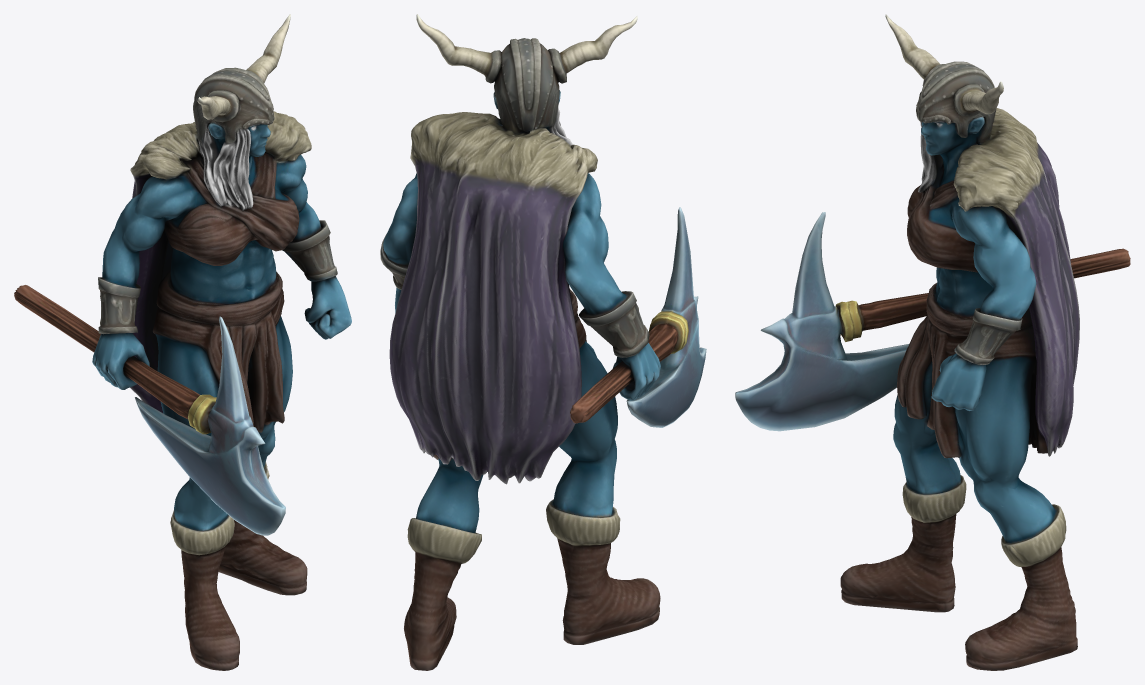
Rendered from MZ4250 - Frost Giant (Female).glb.
The picture shows the model from 3 angles, left to right: view 1: azimuth 30°, elevation 25°; view 2: azimuth 150°, elevation 25°; view 3: azimuth 270°, elevation 25°; orthographic projection. The views are drawn at different scales.
Visible parts, largest first — view 1: body_high.002, axe_high.002; view 2: body_high.002, axe_high.002; view 3: body_high.002, axe_high.002.
Boxes of the visible parts, x1,y1,x2,y2 form: body_high.002: (92,14,351,670); axe_high.002: (14,285,285,535); body_high.002: (380,14,660,670); axe_high.002: (570,207,706,427); body_high.002: (840,14,1079,670); axe_high.002: (735,212,1130,431).
Bounding box in the file's own units: 3.12 × 6.76 × 4.14.
1 material, 1 textured.
